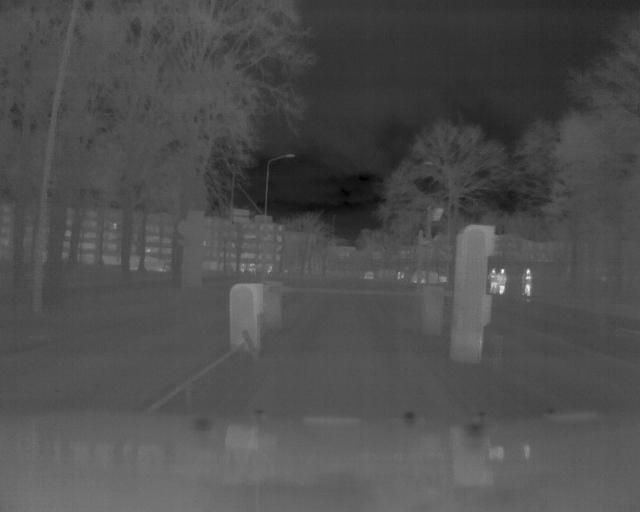car: (363, 269, 376, 283)
person: (519, 266, 535, 300), (488, 266, 498, 297), (498, 268, 507, 295)
